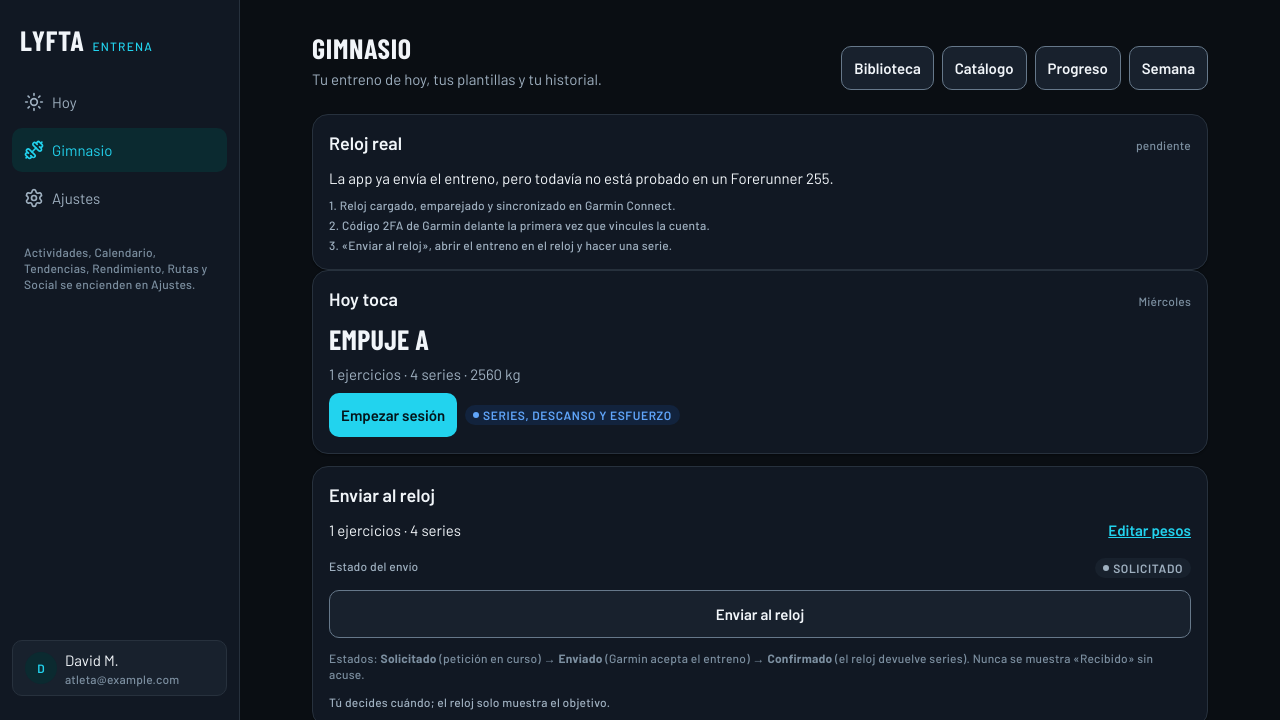
Test: envío de la plantilla al reloj › si el envío falla, explica qué hacer y deja reintentar
Click the button "Enviar al reloj" at (760, 614), box [329,590,1191,638]
(page scrolled)
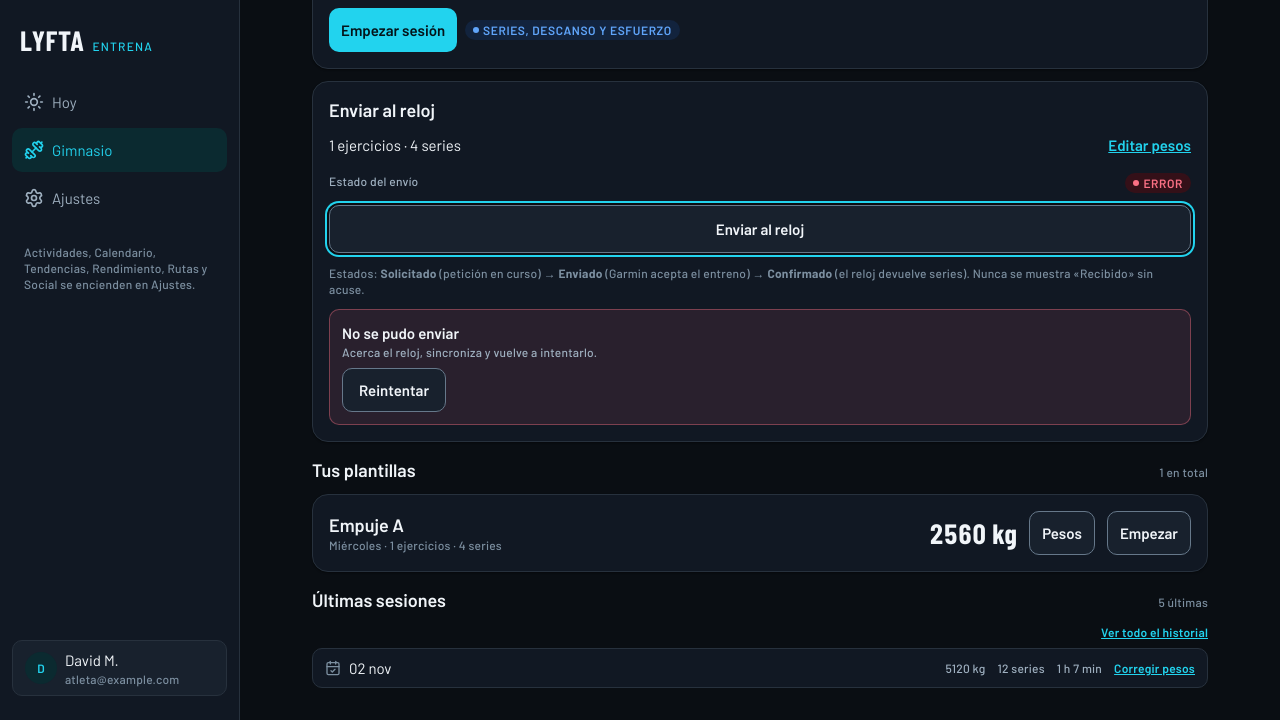
Expected: the text "No se pudo enviar" is shown, [342,324,459,342]
Expected: the text "Error" is shown, [1125,173,1191,193]
Expected: the text "Acerca el reloj, sincroniza y vuelve a intentarlo." is shown, [342,345,597,359]
